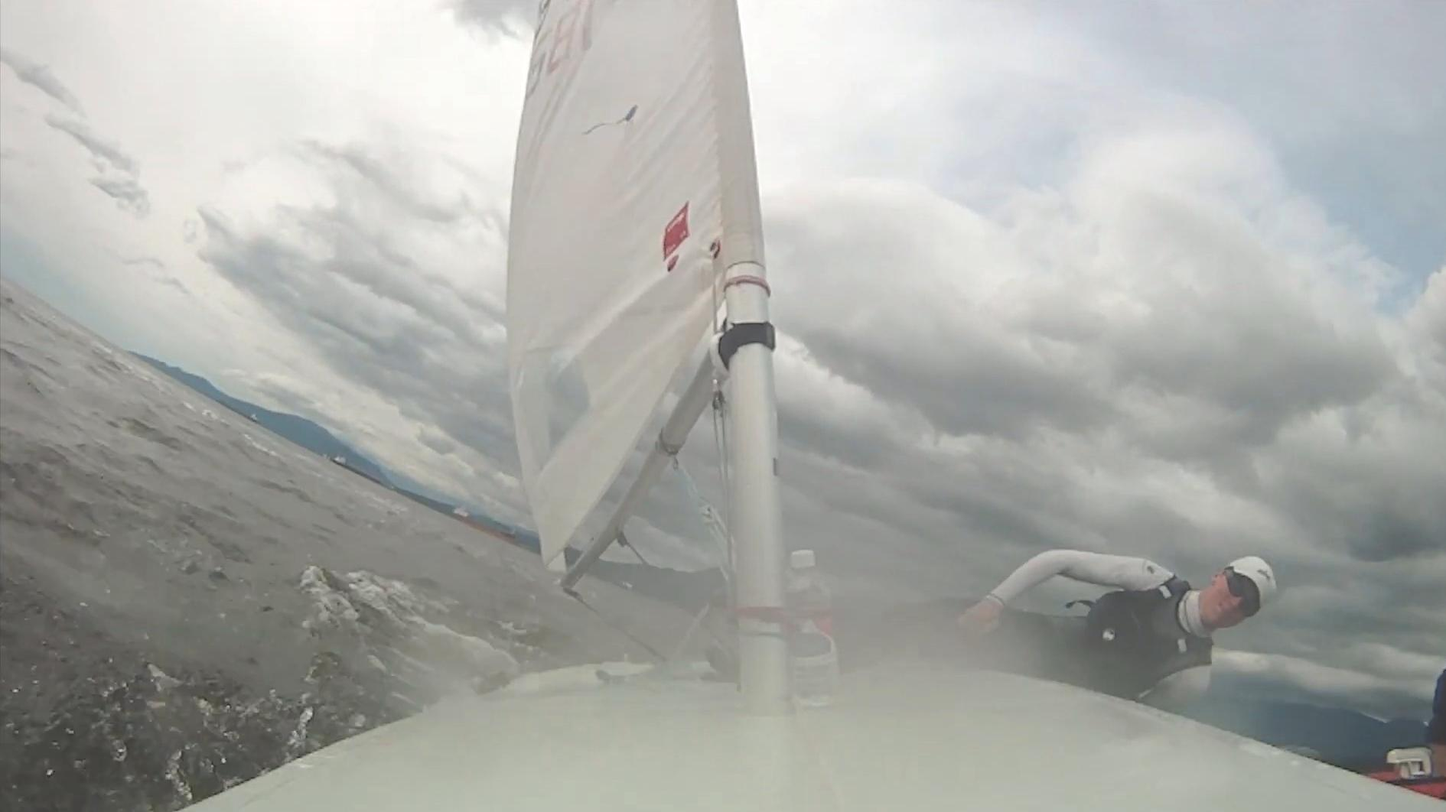boat: (178, 0, 1446, 812)
land: (129, 352, 539, 553), (1190, 696, 1417, 775), (584, 562, 738, 653)
person: (706, 551, 1276, 701)
sea: (0, 280, 731, 812)
sky: (735, 0, 1446, 693), (1, 0, 540, 532), (601, 379, 736, 573)
